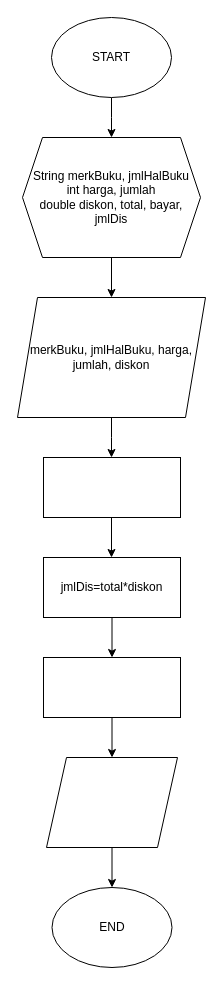
The diagram is 223 pixels wide and 985 high, and some of its shapes have lost their labels. The shapes that lost their labels are listed below. From the top down, each one's box as (x1, y1, x2, y2) in pixels, then its label:
(42, 456, 180, 518): total=harga*jumlah
(42, 656, 180, 718): bayar=total-jmlDis
(46, 756, 178, 848): jmlDis bayar
